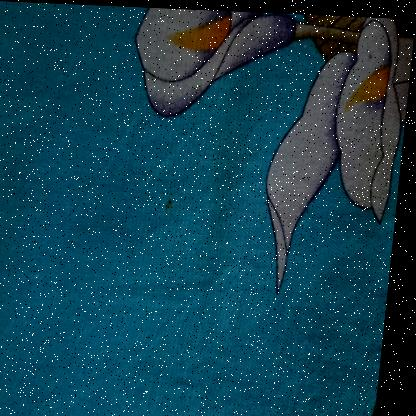spot: (165, 192, 178, 213)
